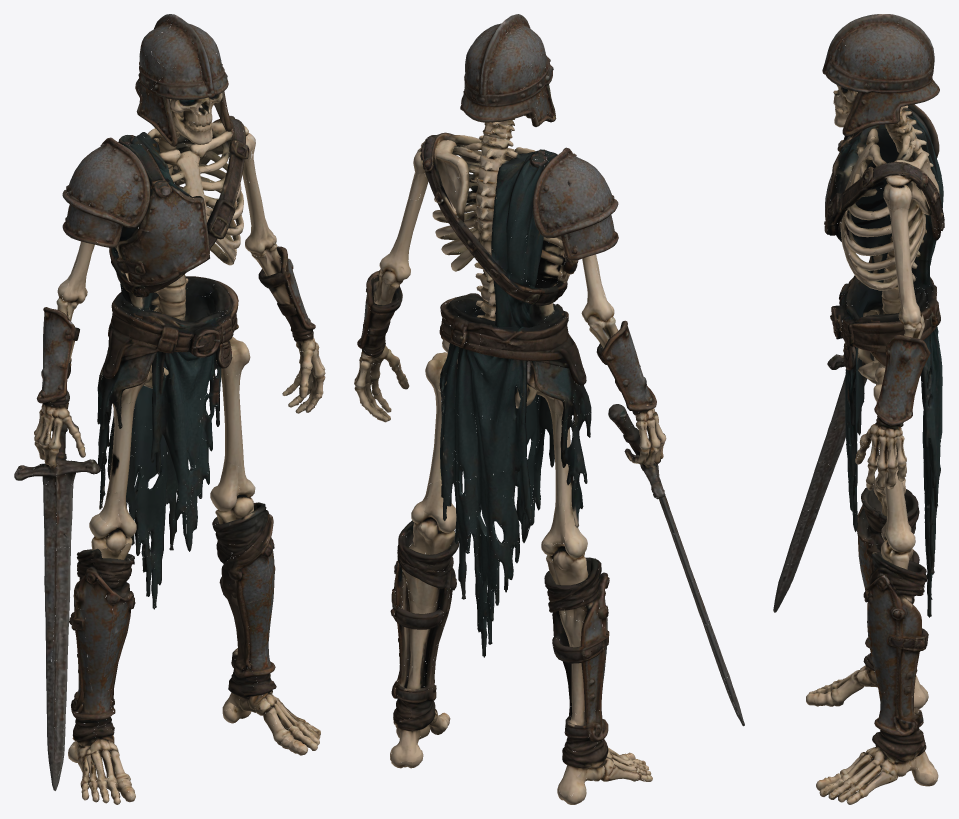
Rendered from skeleton-tripo.glb.
3 views of the same model, side by side, from view 1: azimuth 30°, elevation 25°; view 2: azimuth 150°, elevation 25°; view 3: azimuth 270°, elevation 25° (orthographic). The views are drawn at different scales.
Visible parts, largest first — view 1: tripo_node_ad83e4f7-6ba3-4fef-9dd0-9fc2e8784ff9; view 2: tripo_node_ad83e4f7-6ba3-4fef-9dd0-9fc2e8784ff9; view 3: tripo_node_ad83e4f7-6ba3-4fef-9dd0-9fc2e8784ff9.
Boxes of the visible parts, x1,y1,x2,y2 form: tripo_node_ad83e4f7-6ba3-4fef-9dd0-9fc2e8784ff9: (14,14,325,804); tripo_node_ad83e4f7-6ba3-4fef-9dd0-9fc2e8784ff9: (354,14,744,804); tripo_node_ad83e4f7-6ba3-4fef-9dd0-9fc2e8784ff9: (773,14,944,804).
Bounding box in the file's own units: 0.8531 × 1.85 × 0.3927.
Materials: 1 (1 with a texture image).
